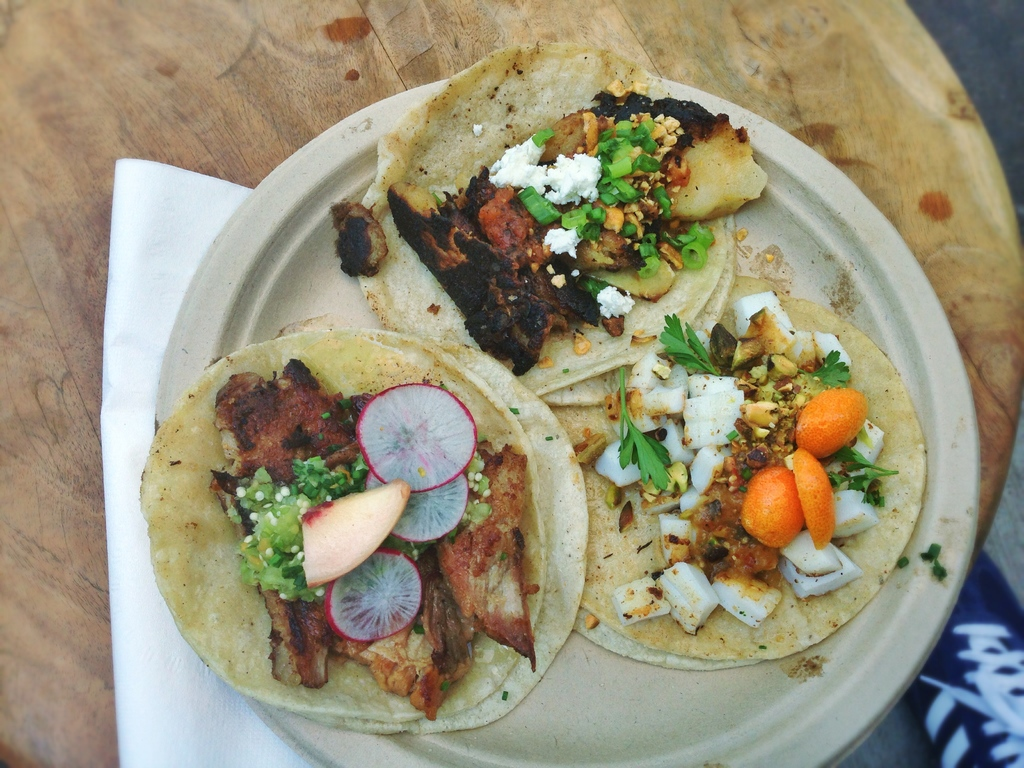taco: (133, 23, 1004, 761), (136, 326, 589, 736), (522, 275, 932, 667), (353, 45, 739, 413)
